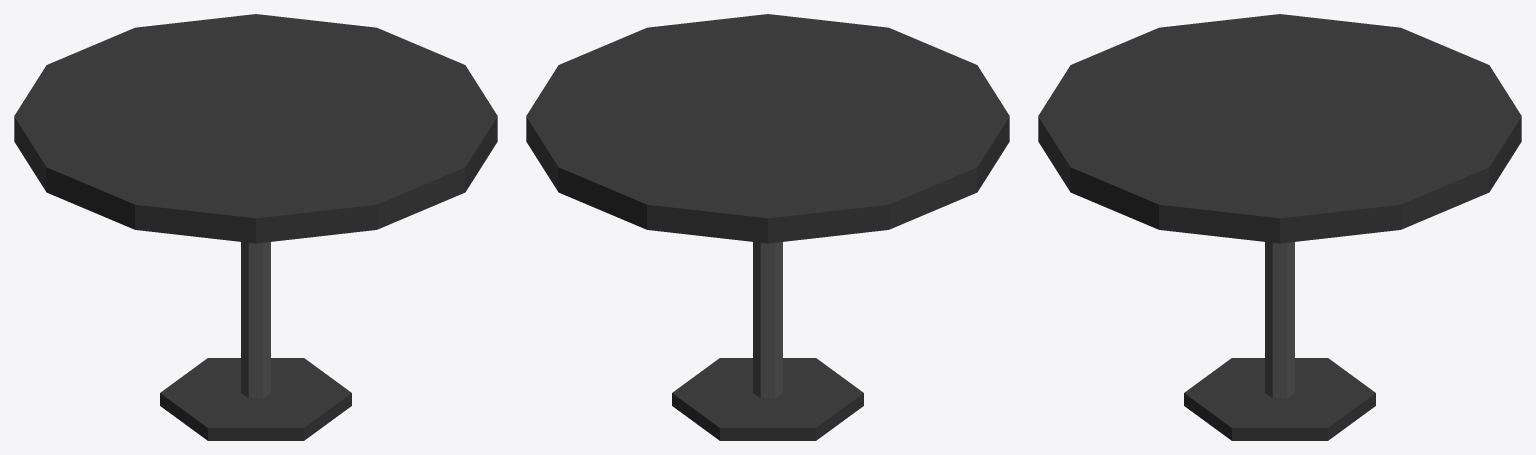
The model's file is SM_Props_Cafe_02.fbx.
The picture shows the model from 3 angles, left to right: view 1: azimuth 30°, elevation 25°; view 2: azimuth 150°, elevation 25°; view 3: azimuth 270°, elevation 25°; orthographic projection.
Parts seen in each view (by area): view 1: SM_Props_Cafe_02; view 2: SM_Props_Cafe_02; view 3: SM_Props_Cafe_02.
Part boxes in pixels (x1=…): SM_Props_Cafe_02: x1=14, y1=14, x2=497, y2=440; SM_Props_Cafe_02: x1=526, y1=14, x2=1009, y2=440; SM_Props_Cafe_02: x1=1038, y1=14, x2=1521, y2=440.
Bounding box in the file's own units: 1.25 × 0.8285 × 1.25.
